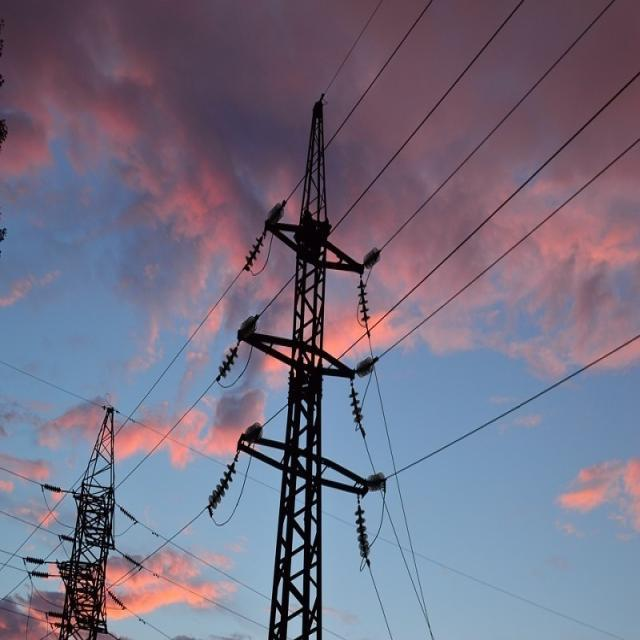non-critical vegetation: (230, 83, 382, 635), (33, 398, 164, 630)
